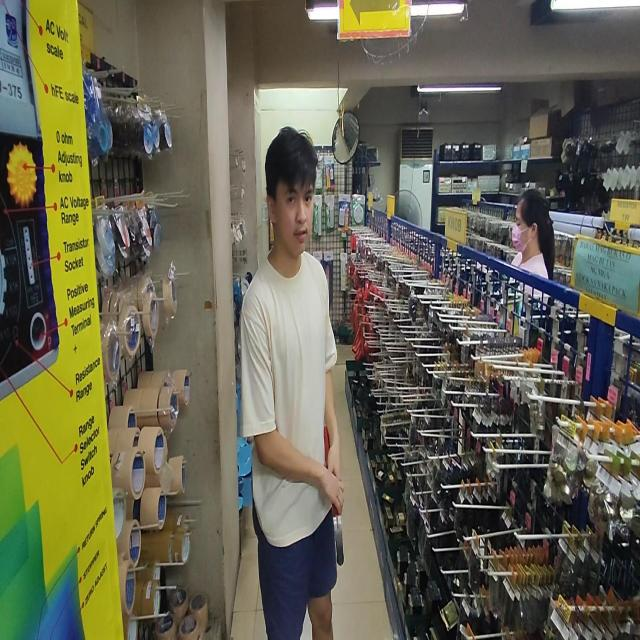hammer: (324, 426, 344, 566)
